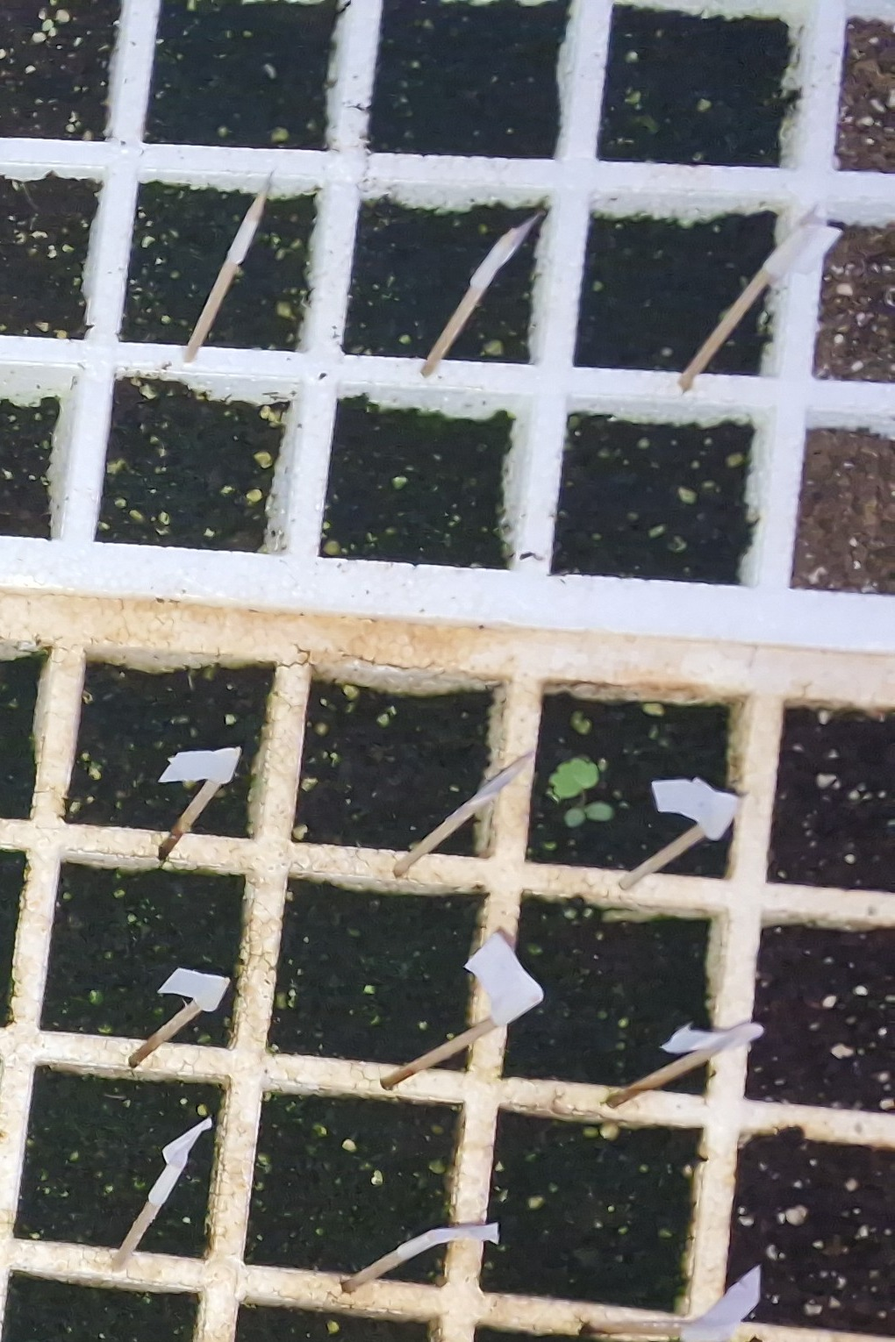Folha: (550, 758, 598, 798), (587, 802, 612, 821), (566, 807, 585, 826)
Germinacao: (550, 758, 613, 826)
